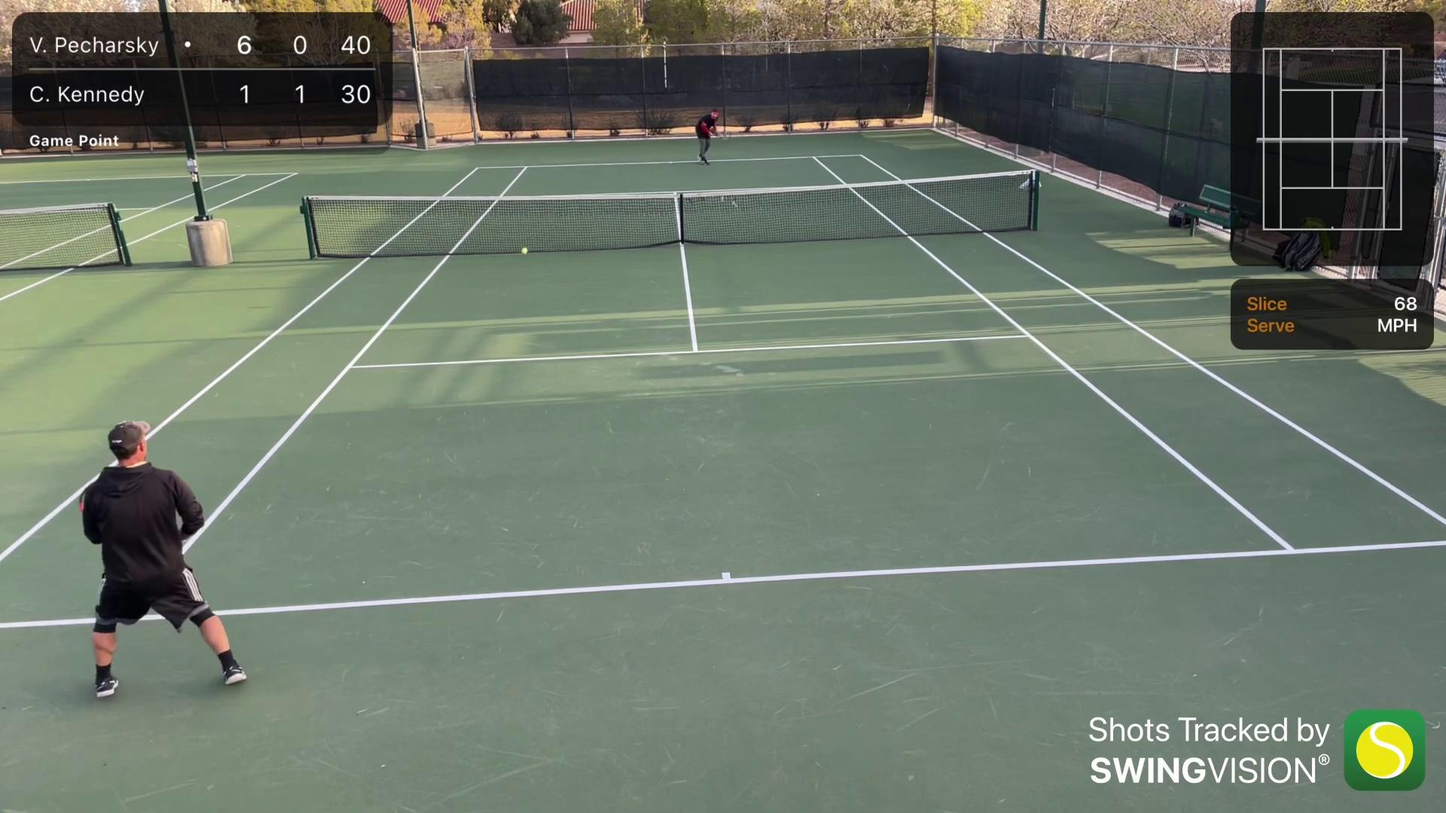ball: (520, 246, 529, 256)
